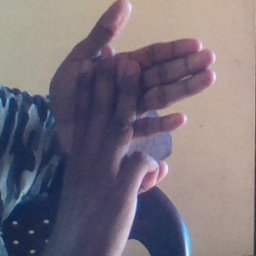M: (37, 1, 220, 204)
